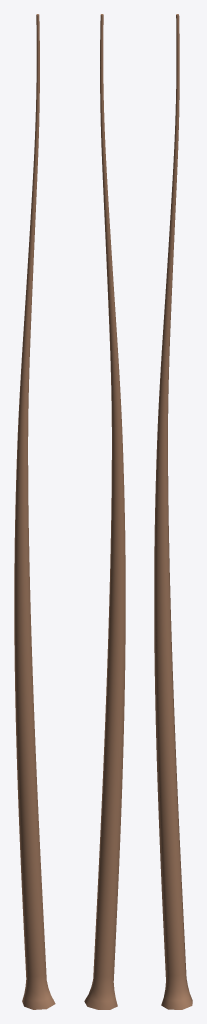
The model's file is cypr_mort.glb.
The picture shows the model from 3 angles, left to right: view 1: azimuth 30°, elevation 25°; view 2: azimuth 210°, elevation 25°; view 3: azimuth 330°, elevation 25°; orthographic projection.
Parts seen in each view (by area): view 1: Sans_titre.001; view 2: Sans_titre.001; view 3: Sans_titre.001.
Part boxes in pixels (bbox=[...]): Sans_titre.001: bbox=[14, 14, 55, 1009]; Sans_titre.001: bbox=[84, 14, 125, 1009]; Sans_titre.001: bbox=[154, 14, 192, 1009].
Bounding box in the file's own units: 2.77 × 70 × 2.21.
